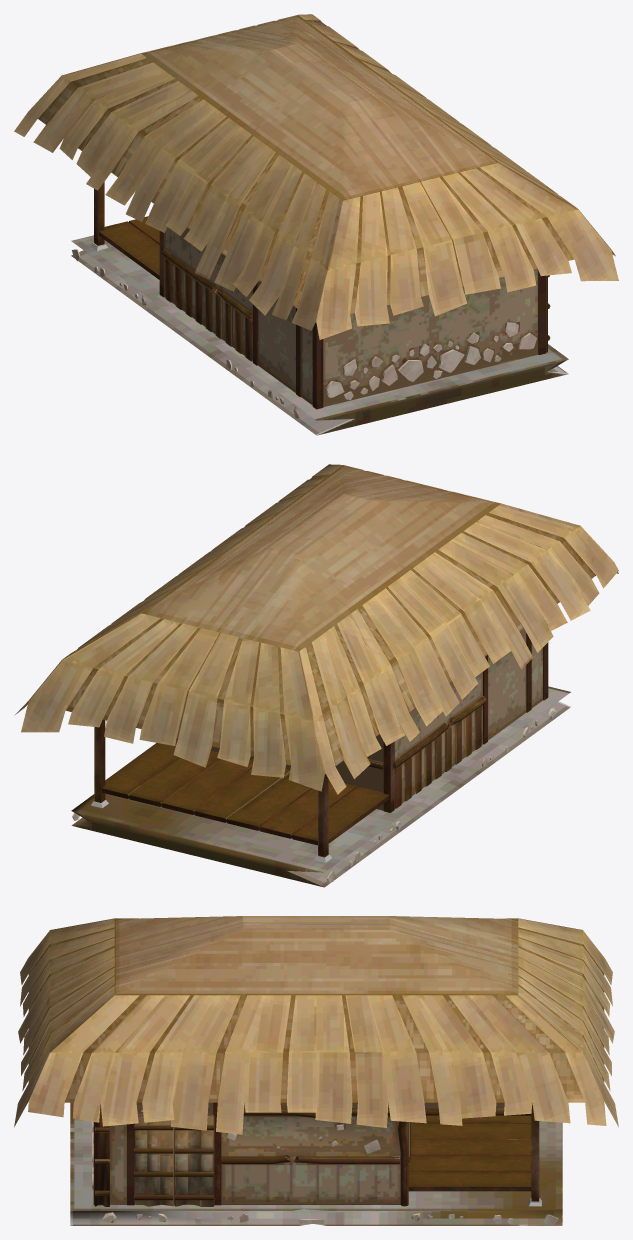
3 renders of one model, top to bottom at view 1: azimuth 30°, elevation 25°; view 2: azimuth 150°, elevation 25°; view 3: azimuth 270°, elevation 25°, orthographic.
Visible parts, largest first — view 1: korea_house01; view 2: korea_house01; view 3: korea_house01.
Part boxes in pixels (x1,y1,x2,y2): korea_house01: (14,14,618,435); korea_house01: (14,464,618,887); korea_house01: (14,916,618,1225).
Bounding box in the file's own units: 5718 × 4057 × 9220.
